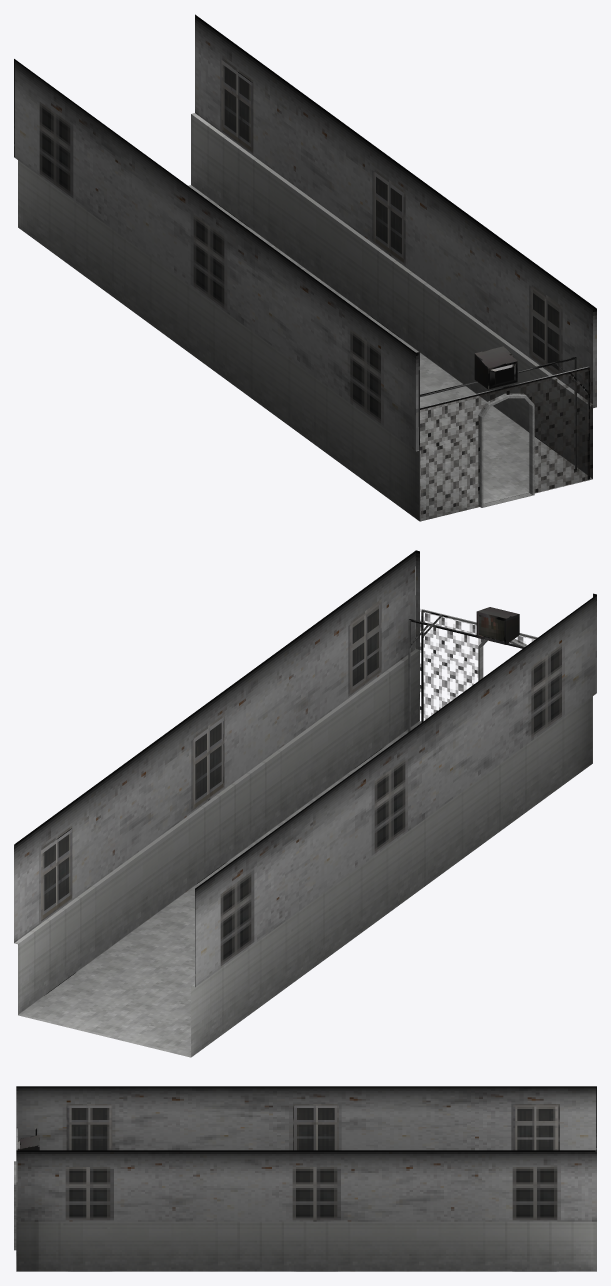
Rendered from corridor-mesh.glb.
3 renders of one model, top to bottom at view 1: azimuth 30°, elevation 25°; view 2: azimuth 150°, elevation 25°; view 3: azimuth 270°, elevation 25°, orthographic. The views are drawn at different scales.
Visible parts, largest first — view 1: corridor_1.001; view 2: corridor_1.001; view 3: corridor_1.001.
Boxes of the visible parts, left/top/right/bottom form: corridor_1.001: left=14, top=14, right=596, bottom=521; corridor_1.001: left=14, top=550, right=596, bottom=1057; corridor_1.001: left=14, top=1086, right=596, bottom=1271.
Bounding box in the file's own units: 5.18 × 4.64 × 20.
1 material, 1 textured.
